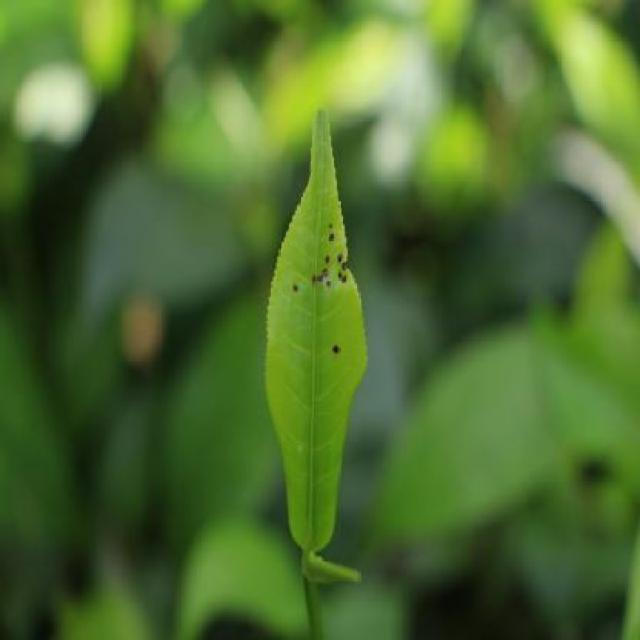Tea Mosquito bug infested leaf: (266, 103, 372, 511)
